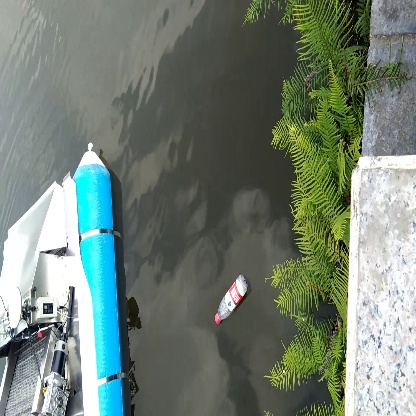bottle: (210, 273, 251, 326)
